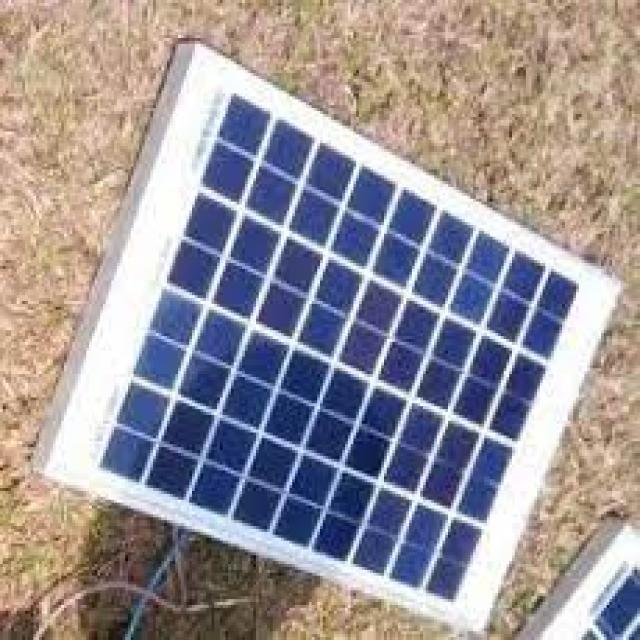no faulty: (107, 93, 577, 601)
